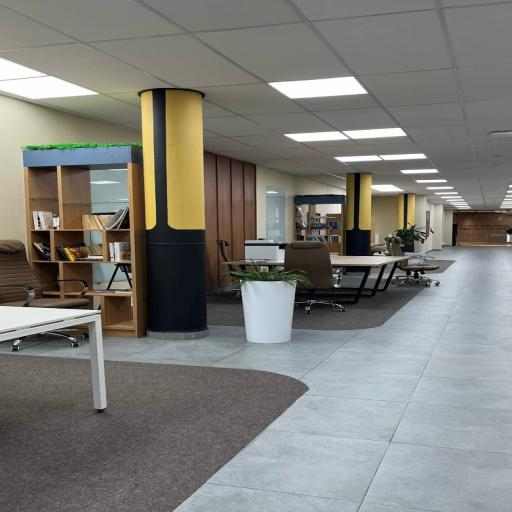bus: (281, 236, 356, 316)
child: (239, 70, 512, 452)
road: (24, 144, 150, 338)
stroller: (0, 298, 127, 422)
